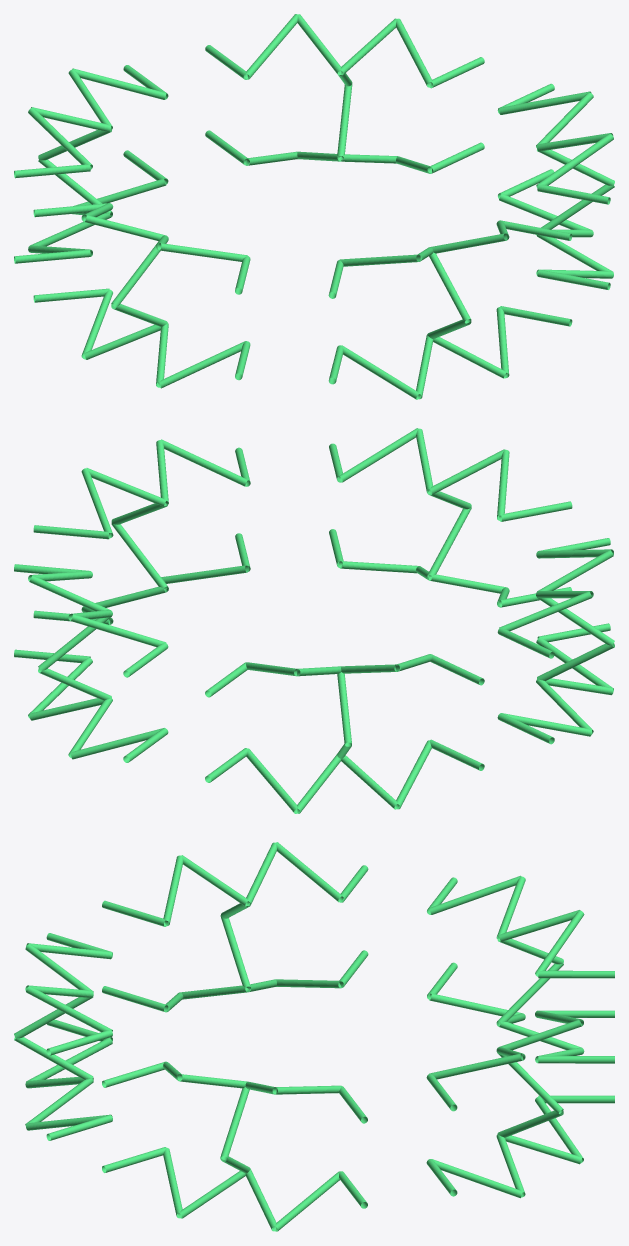
The model's file is trinexus4_2b.glb.
The picture shows the model from 3 angles, top to bottom: view 1: azimuth 30°, elevation 25°; view 2: azimuth 150°, elevation 25°; view 3: azimuth 270°, elevation 25°; orthographic projection.
Visible parts, largest first — view 1: Mesh_177.003; view 2: Mesh_177.003; view 3: Mesh_177.003.
Boxes of the visible parts, bbox=[...] form: Mesh_177.003: bbox=[14, 14, 614, 399]; Mesh_177.003: bbox=[14, 428, 614, 813]; Mesh_177.003: bbox=[14, 842, 614, 1231].
Bounding box in the file's own units: 9.54 × 2.54 × 9.59.
